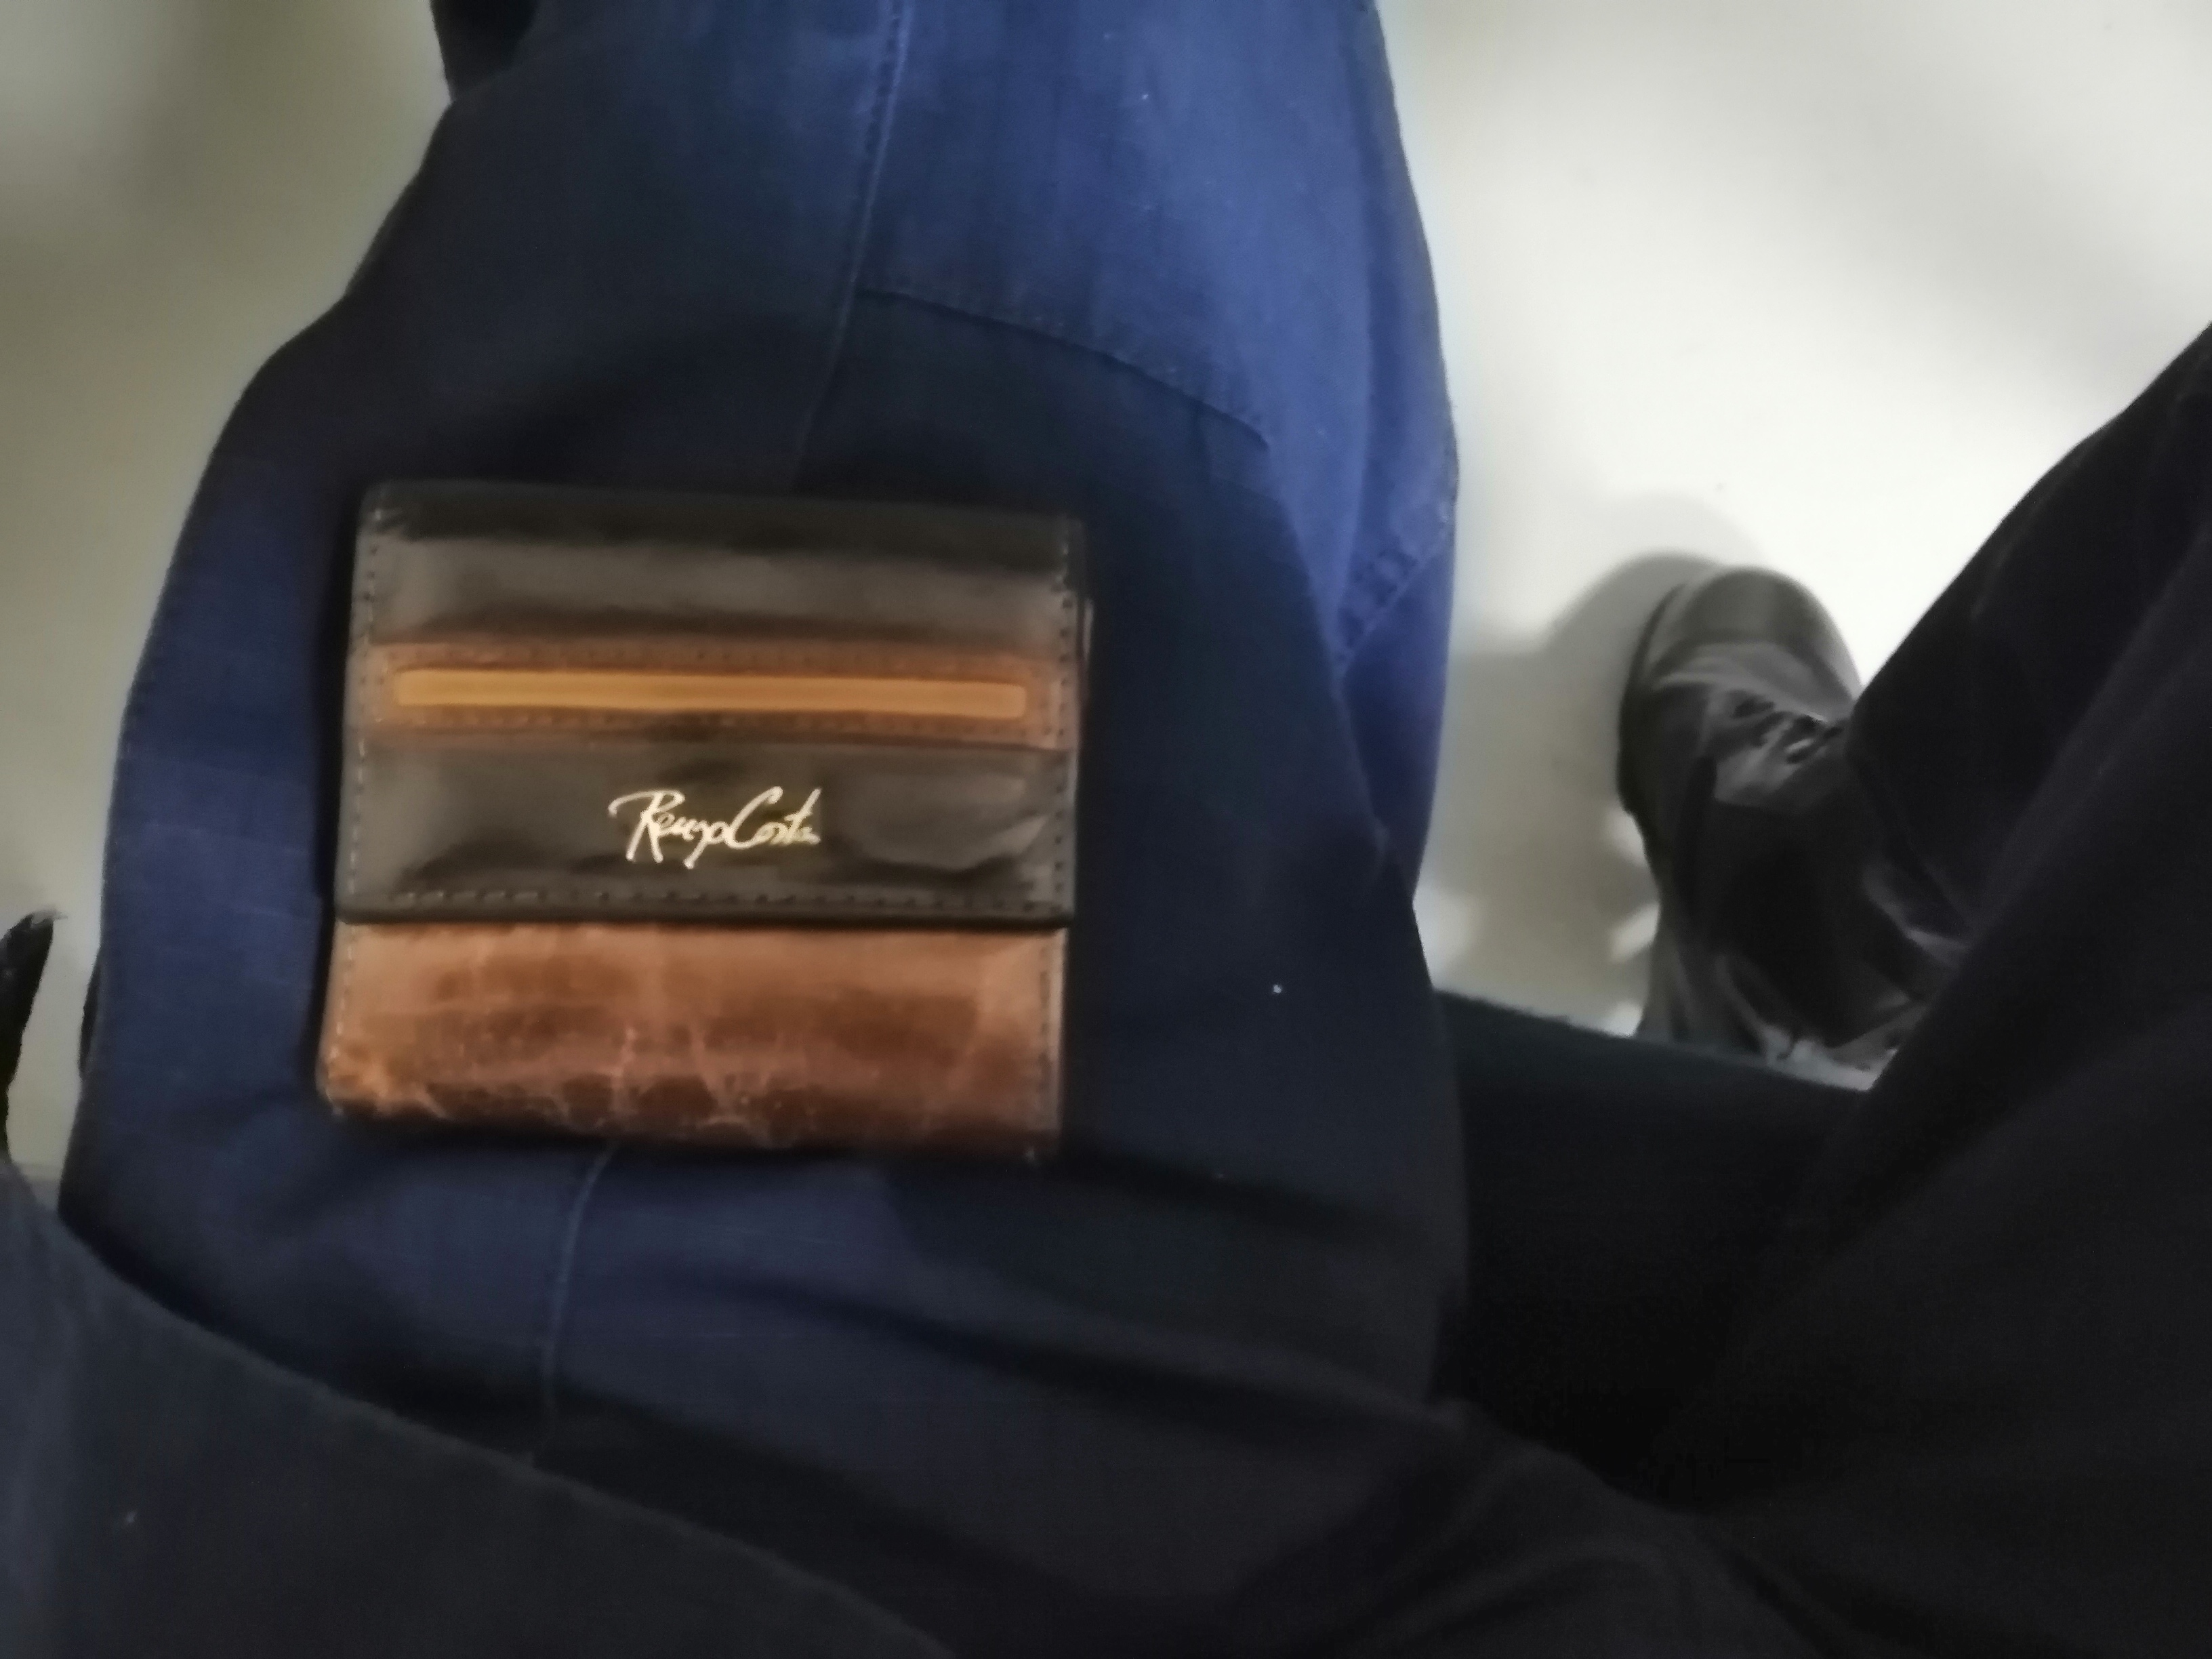monedero: (287, 451, 1130, 1209)
